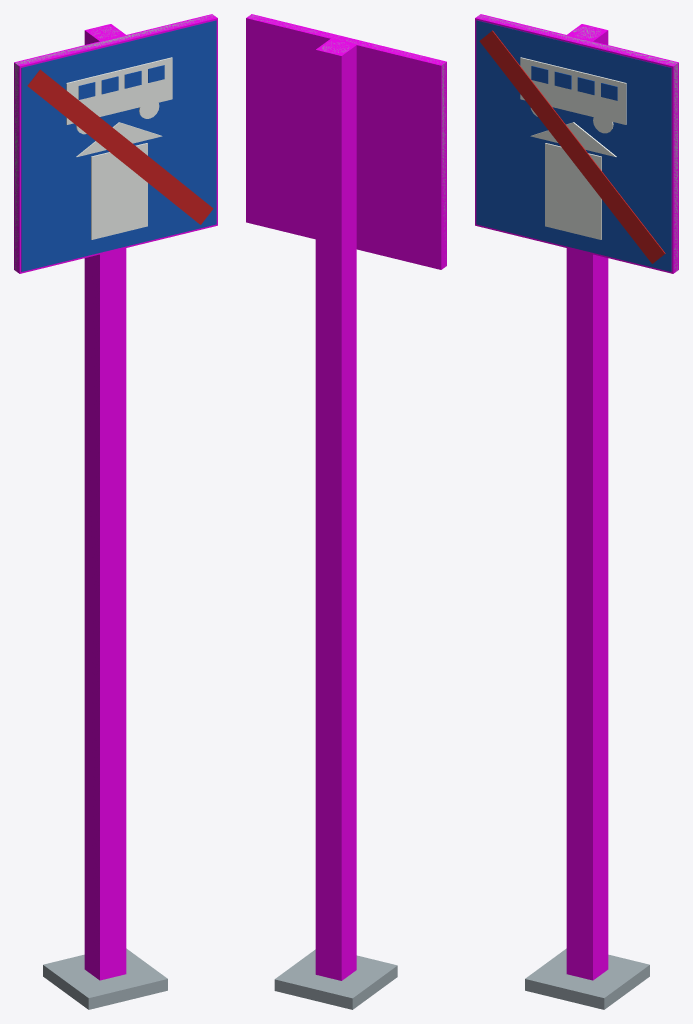
File: PT_Sign_5_14_1_BusLaneEnd.fbx
3 renders of one model, left to right at view 1: azimuth 30°, elevation 25°; view 2: azimuth 150°, elevation 25°; view 3: azimuth 330°, elevation 25°, orthographic.
Visible parts, largest first — view 1: COL_Post, Face_Blue, Pictogram, EndStripe, Post, COL_Plate, Plate_Back, Pictogram_Windows; view 2: COL_Post, COL_Plate, Post, Plate_Back; view 3: COL_Post, Face_Blue, Pictogram, EndStripe, Post, COL_Plate, Plate_Back, Pictogram_Windows.
Boxes of the visible parts, x1,y1,x2,y2 form: COL_Post: [84, 24, 126, 980]; Face_Blue: [21, 20, 216, 271]; Pictogram: [66, 57, 172, 239]; EndStripe: [27, 69, 213, 224]; Post: [43, 27, 167, 1009]; COL_Plate: [14, 14, 217, 273]; Plate_Back: [15, 15, 216, 271]; Pictogram_Windows: [78, 65, 164, 99]; COL_Post: [315, 39, 356, 980]; COL_Plate: [246, 14, 446, 269]; Post: [274, 41, 397, 1009]; Plate_Back: [249, 15, 445, 265]; COL_Post: [566, 24, 608, 980]; Face_Blue: [476, 20, 671, 271]; Pictogram: [520, 57, 626, 239]; EndStripe: [479, 30, 665, 263]; Post: [525, 27, 649, 1009]; COL_Plate: [475, 14, 678, 273]; Plate_Back: [478, 15, 677, 271]; Pictogram_Windows: [531, 66, 617, 100].
Size of the model in its own units: 0.6 by 2.75 by 0.24.
